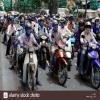motorcycles: (76, 44, 100, 85), (51, 38, 69, 86), (21, 45, 38, 92), (38, 34, 51, 68)
